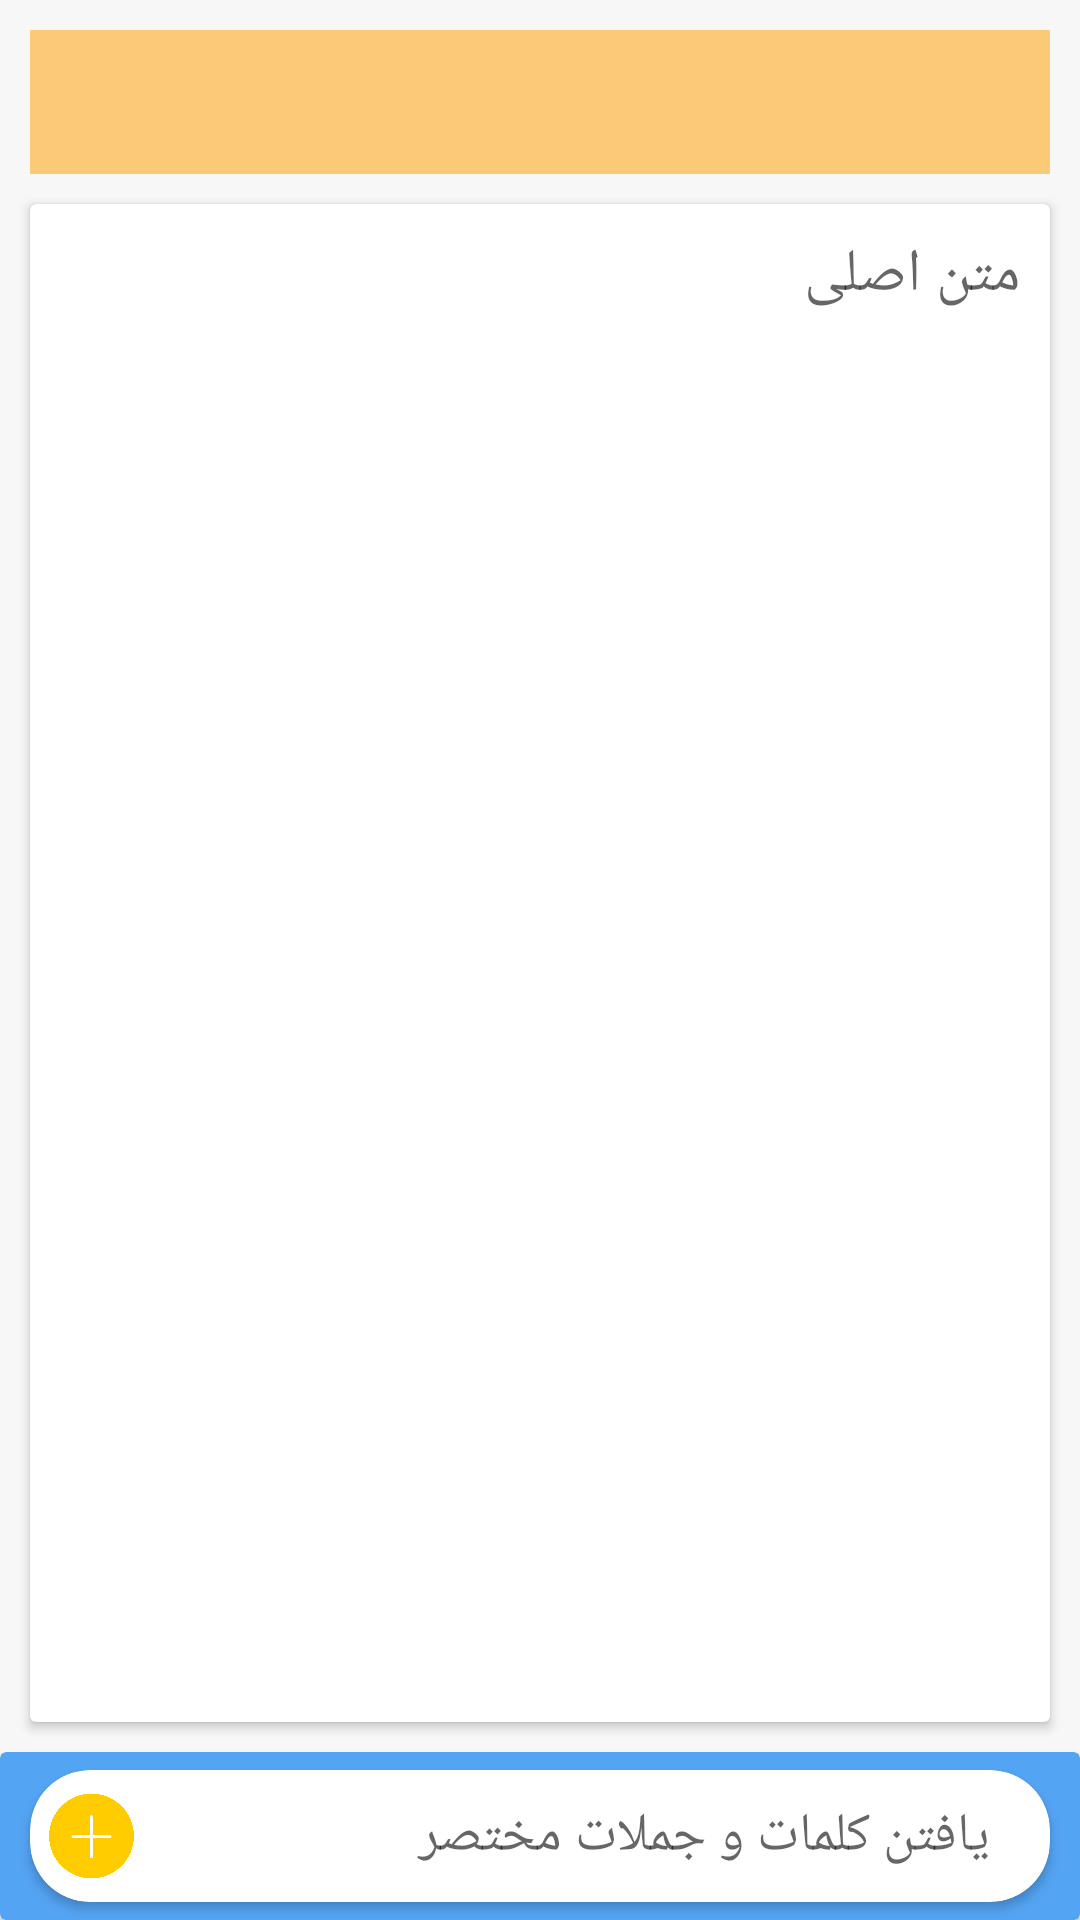

Icon click points for this 1080px×1920px phone screenshot, format point (x, y):
add: point (91, 1836)
